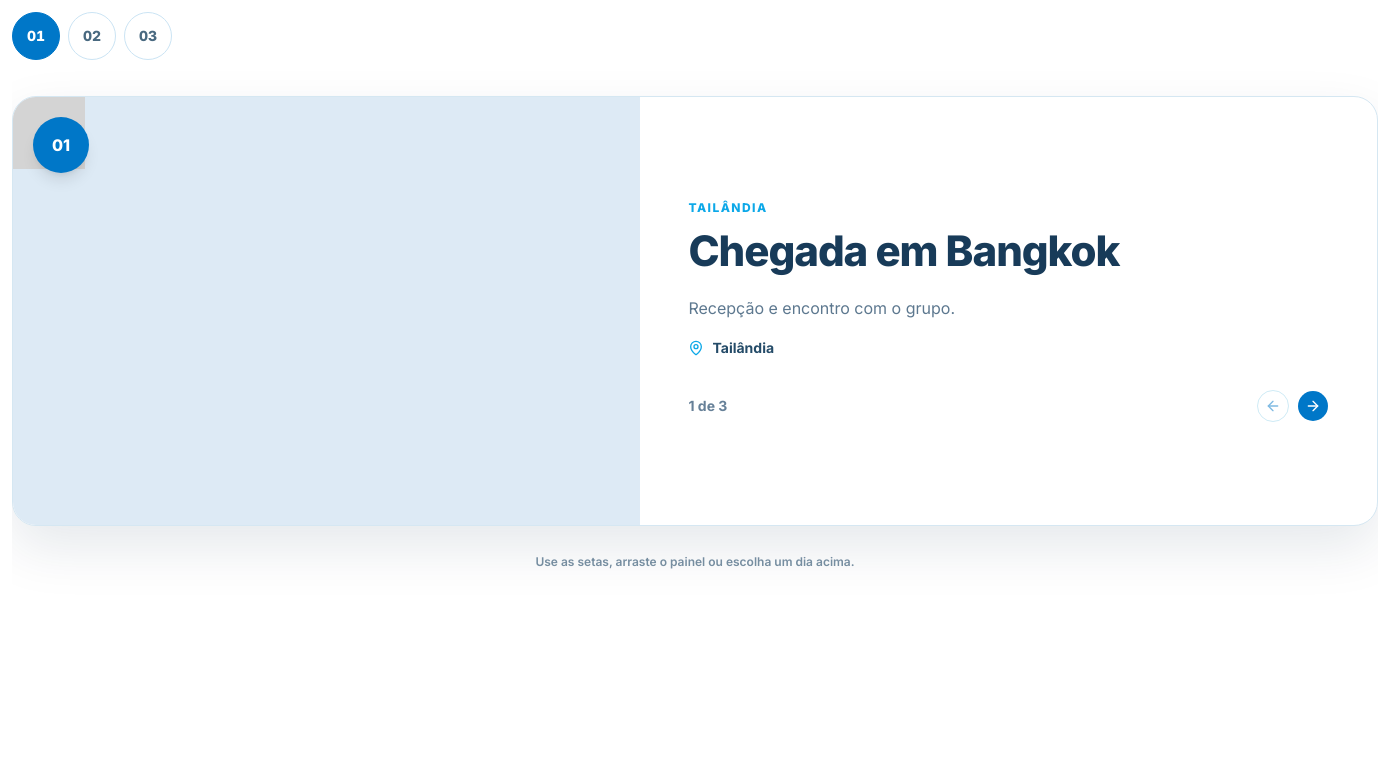
Test: CaravanItineraryCarousel › navega por botões e teclado sem ultrapassar as extremidades
Expected: the heading "Chegada em Bangkok" is shown, [688,225,1119,276]
Expected: the button named "Dia anterior" is disabled, [1257,390,1289,422]
Click the button named "Próximo dia" at (1313, 406), box [1297,390,1329,422]
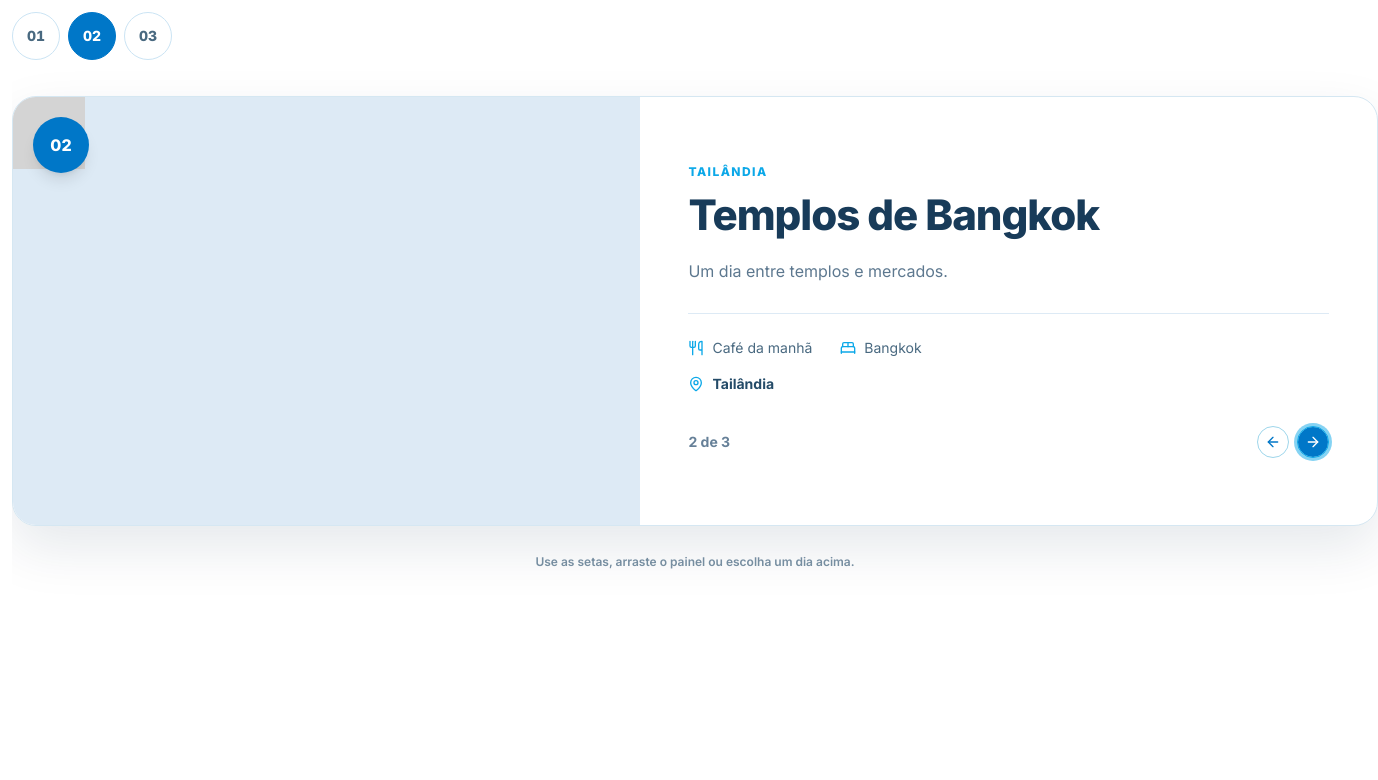
Result: the heading "Templos de Bangkok" is shown at [688,189,1099,240]
Press End in the panel, box [12,96,1377,526]
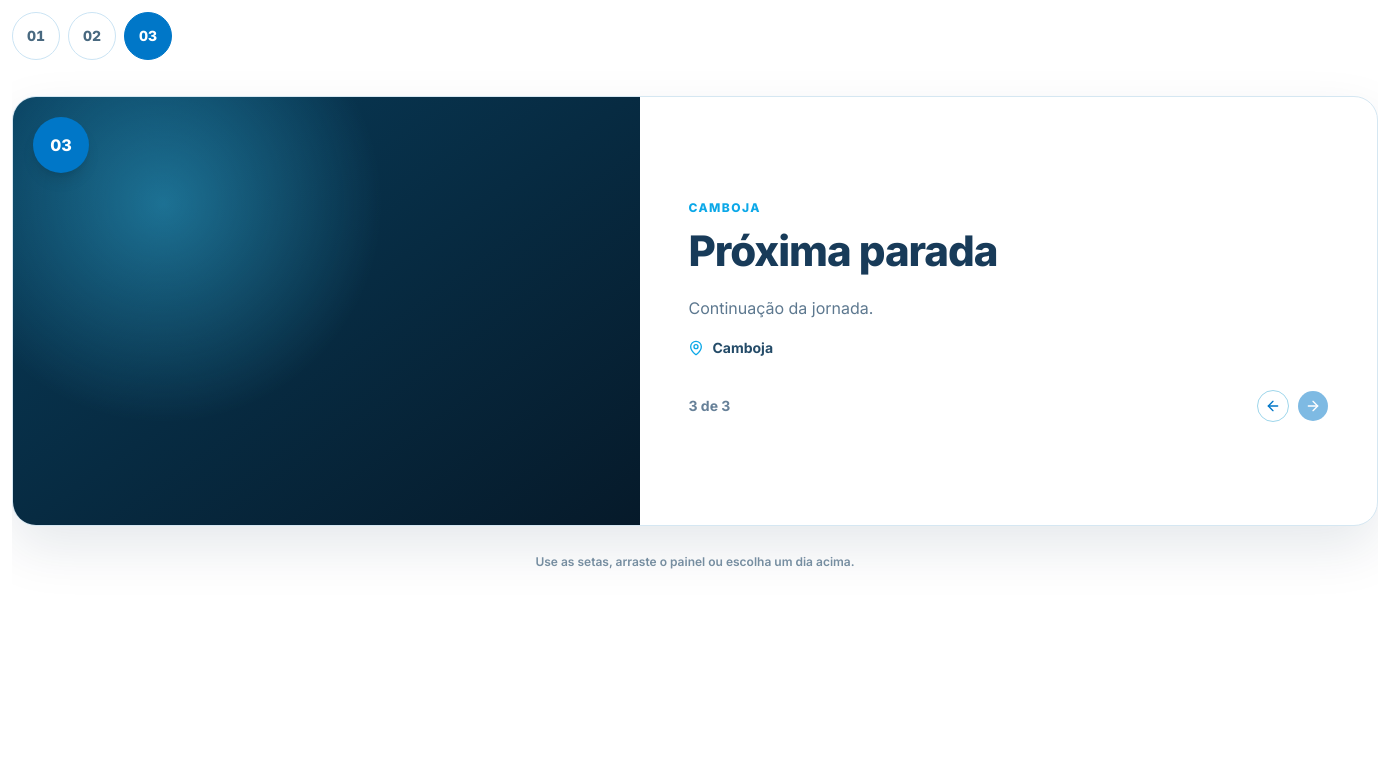
Result: the heading "Próxima parada" is shown at [688,225,997,276]
Result: the button named "Próximo dia" is disabled at [1297,390,1329,422]
